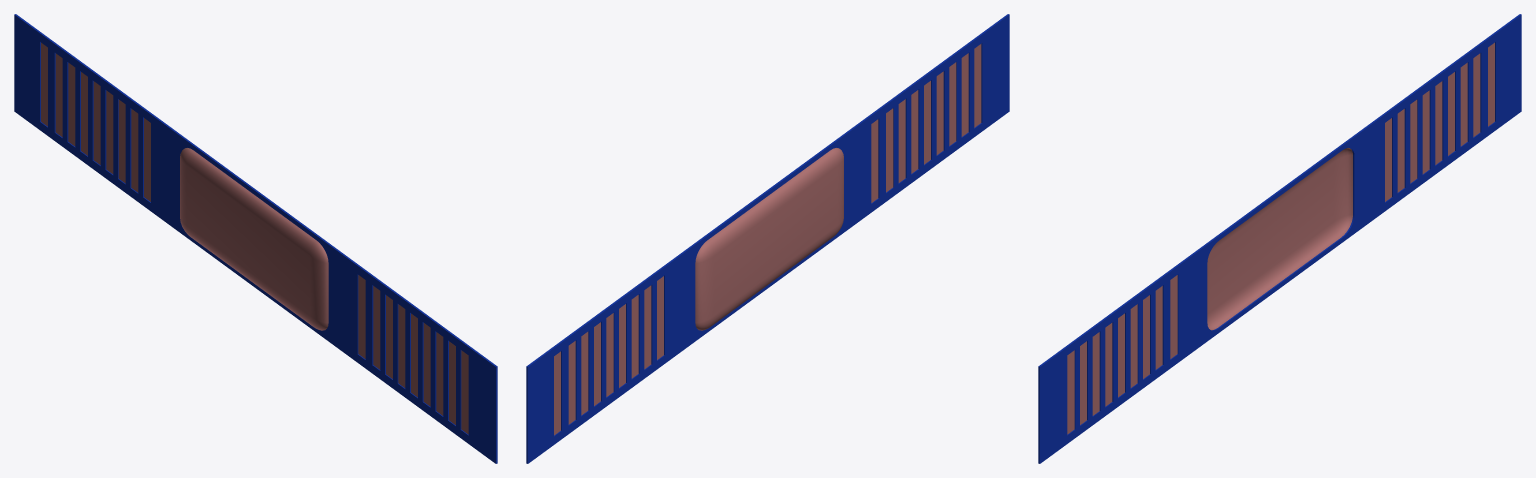
File: 5X45 Lotsawindows.FBX
3 renders of one model, left to right at view 1: azimuth 30°, elevation 25°; view 2: azimuth 150°, elevation 25°; view 3: azimuth 330°, elevation 25°, orthographic.
Parts seen in each view (by area): view 1: Box010; view 2: Box010; view 3: Box010.
Part boxes in pixels (left/top/right/bottom): Box010: left=14, top=14, right=497, bottom=463; Box010: left=526, top=14, right=1009, bottom=463; Box010: left=1038, top=14, right=1521, bottom=463.
Bounding box in the file's own units: 0.4694 × 5 × 45.
